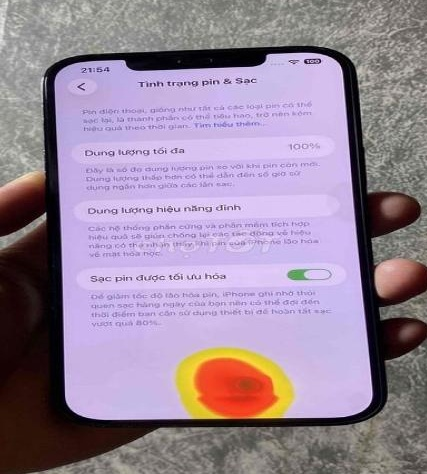screen_defect: (159, 339, 313, 430)
